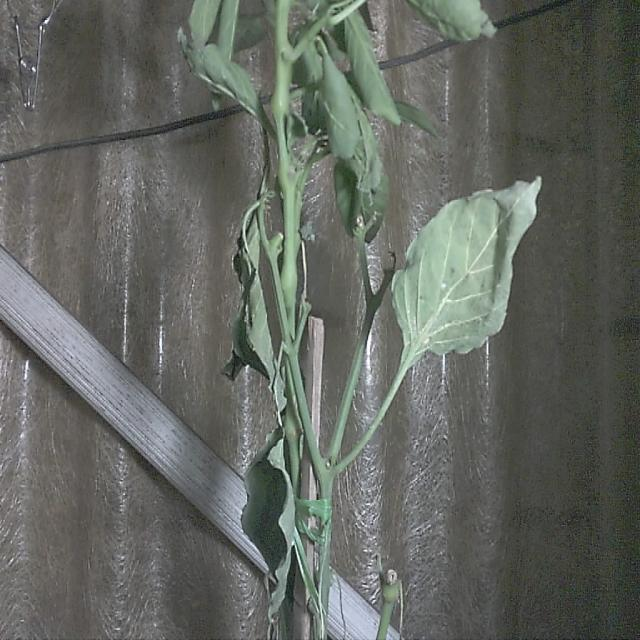Leaf: (390, 174, 541, 358), (241, 426, 297, 624)
